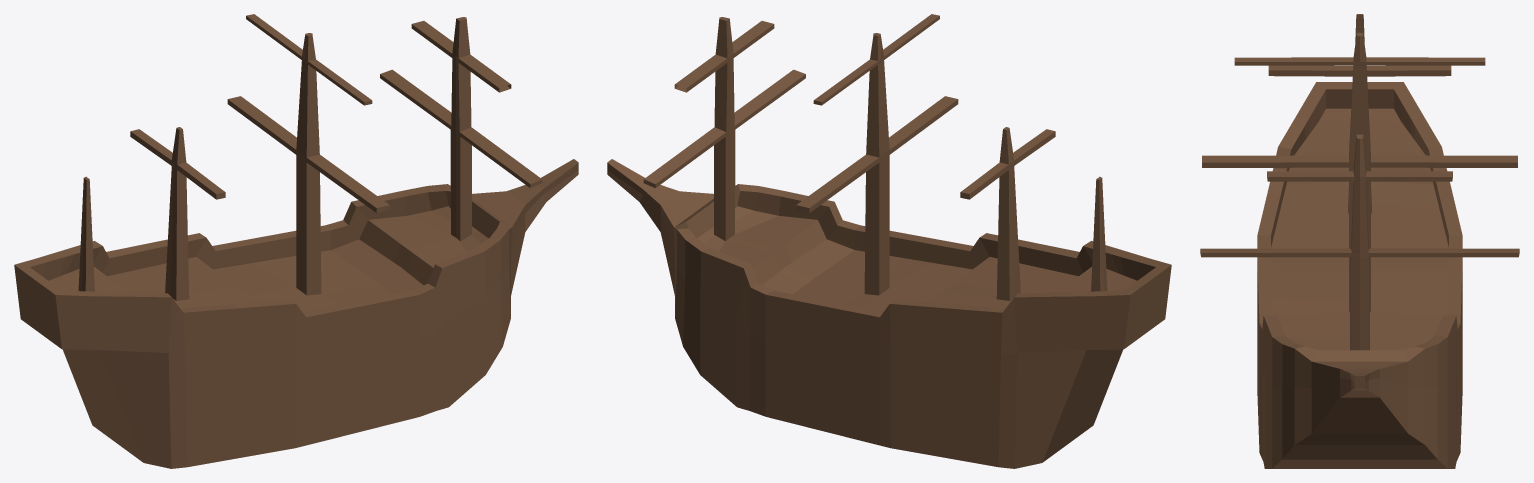
Rendered from galleon.glb.
3 renders of one model, left to right at view 1: azimuth 30°, elevation 25°; view 2: azimuth 150°, elevation 25°; view 3: azimuth 270°, elevation 25°, orthographic. The views are drawn at different scales.
Parts seen in each view (by area): view 1: Plane, Plane.001; view 2: Plane, Plane.001; view 3: Plane.
Boxes of the visible parts, bbox=[...] form: Plane: bbox=[14, 14, 578, 468]; Plane.001: bbox=[95, 128, 406, 299]; Plane: bbox=[607, 14, 1171, 468]; Plane.001: bbox=[777, 128, 1084, 301]; Plane: bbox=[1200, 14, 1519, 468].
Bounding box in the file's own units: 11.64 × 7.46 × 5.6.
